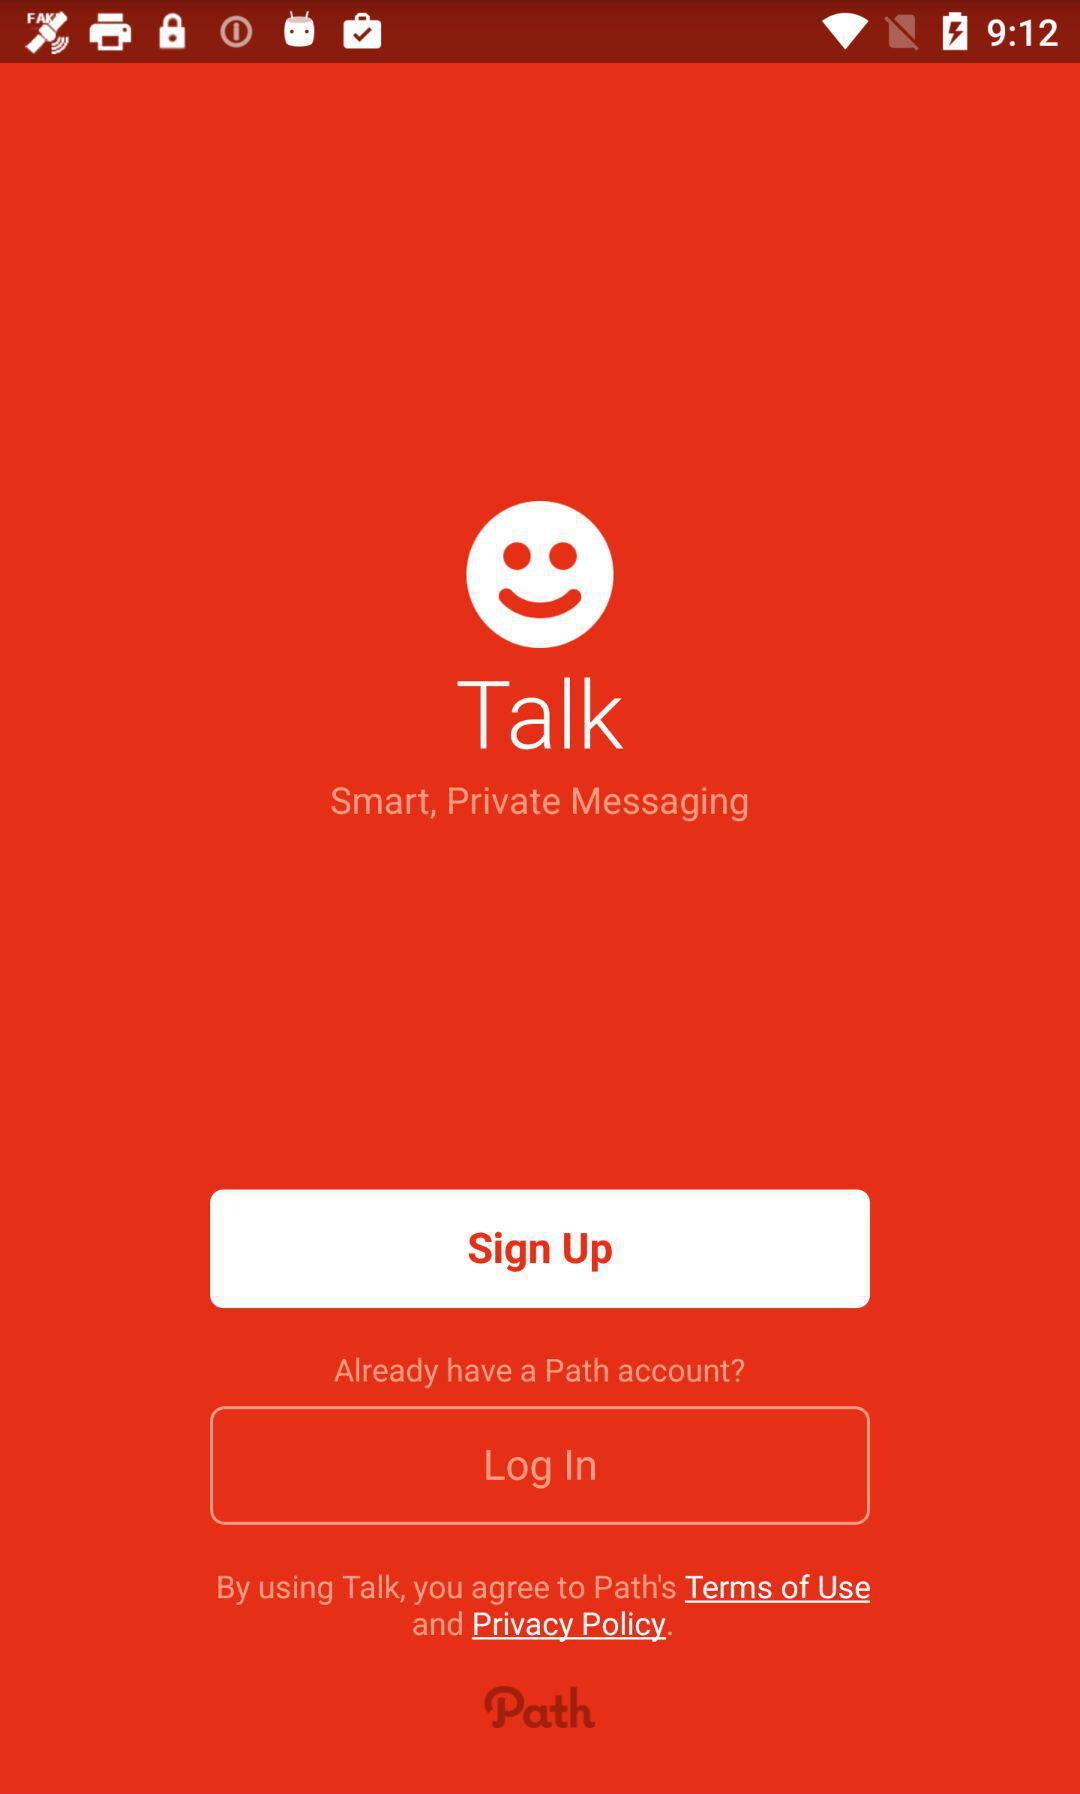Image: (464, 500, 618, 651), (483, 1683, 598, 1731)
Text: (217, 1572, 872, 1643), (328, 783, 752, 825), (333, 1354, 748, 1390), (455, 677, 626, 752)
TextButton: (210, 1406, 871, 1526), (210, 1189, 871, 1310)
UpperTaskBar: (1, 1, 1080, 64)
